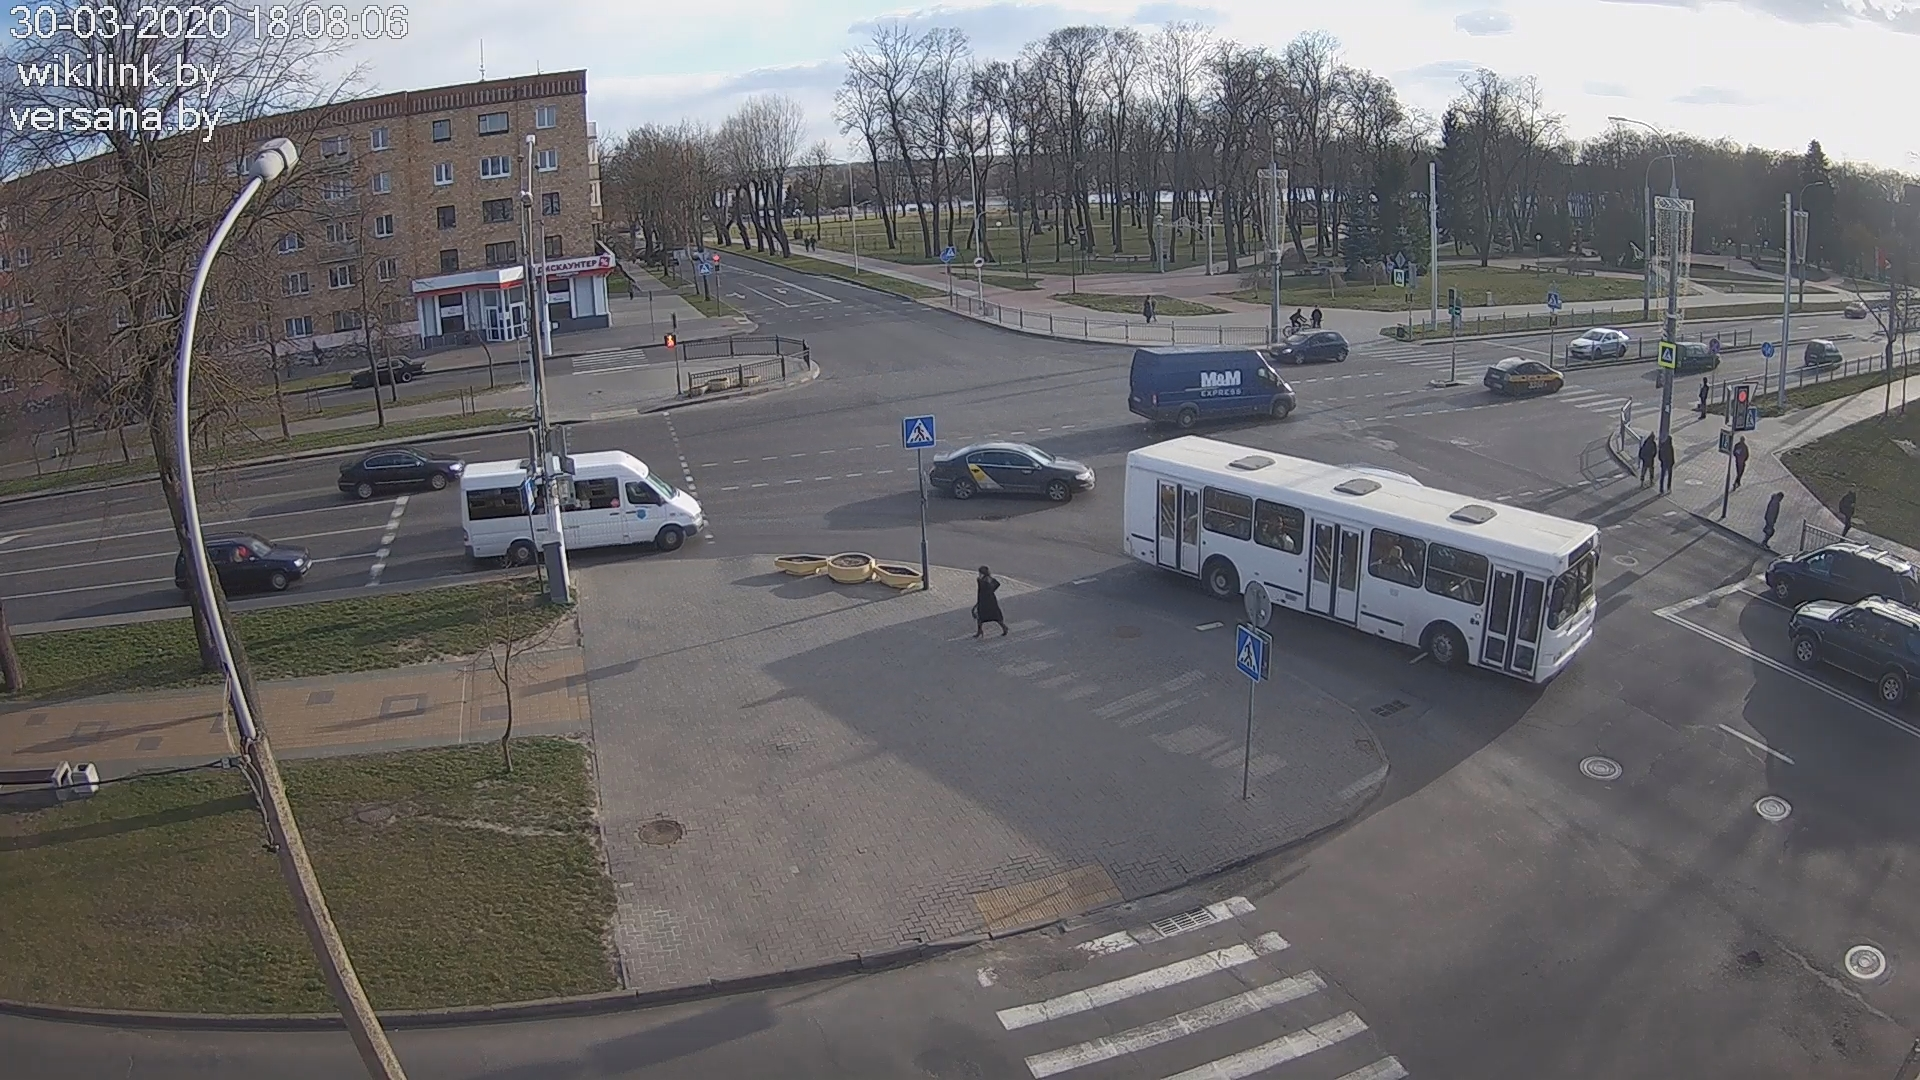bus: (1122, 434, 1600, 688)
car: (460, 450, 702, 567), (1789, 595, 1920, 705), (1127, 344, 1296, 429), (928, 440, 1096, 504), (1767, 542, 1920, 603), (174, 531, 311, 593), (338, 444, 464, 498), (1484, 356, 1565, 400), (1269, 328, 1348, 365), (349, 356, 427, 388), (1569, 328, 1630, 360), (1673, 342, 1720, 372)
